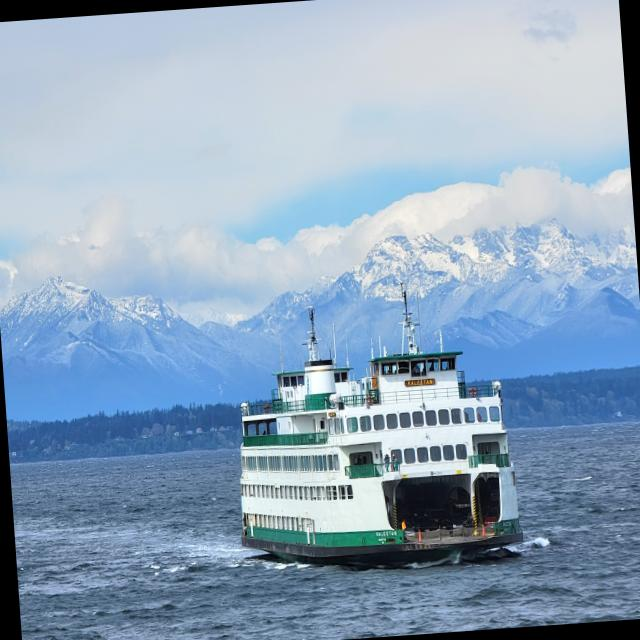boat: (206, 302, 550, 610)
